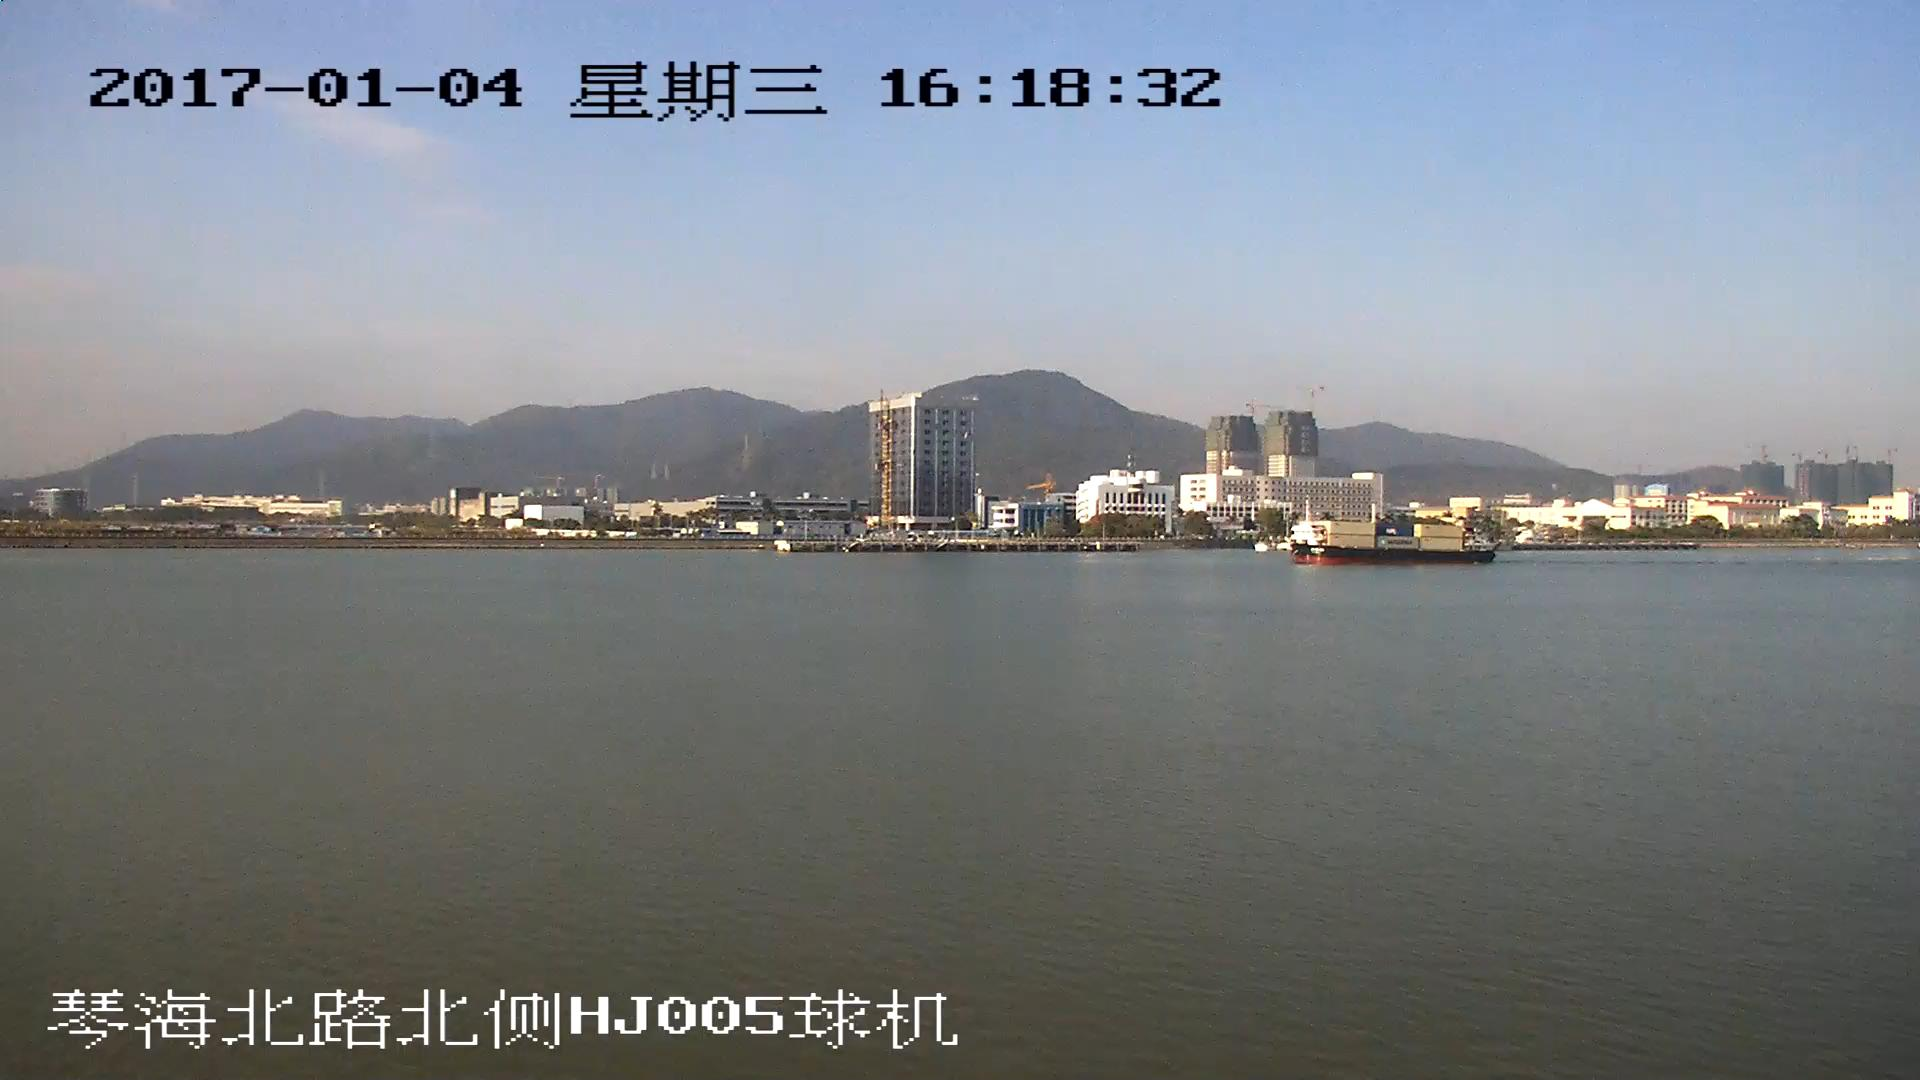container ship: (1295, 521, 1493, 566)
